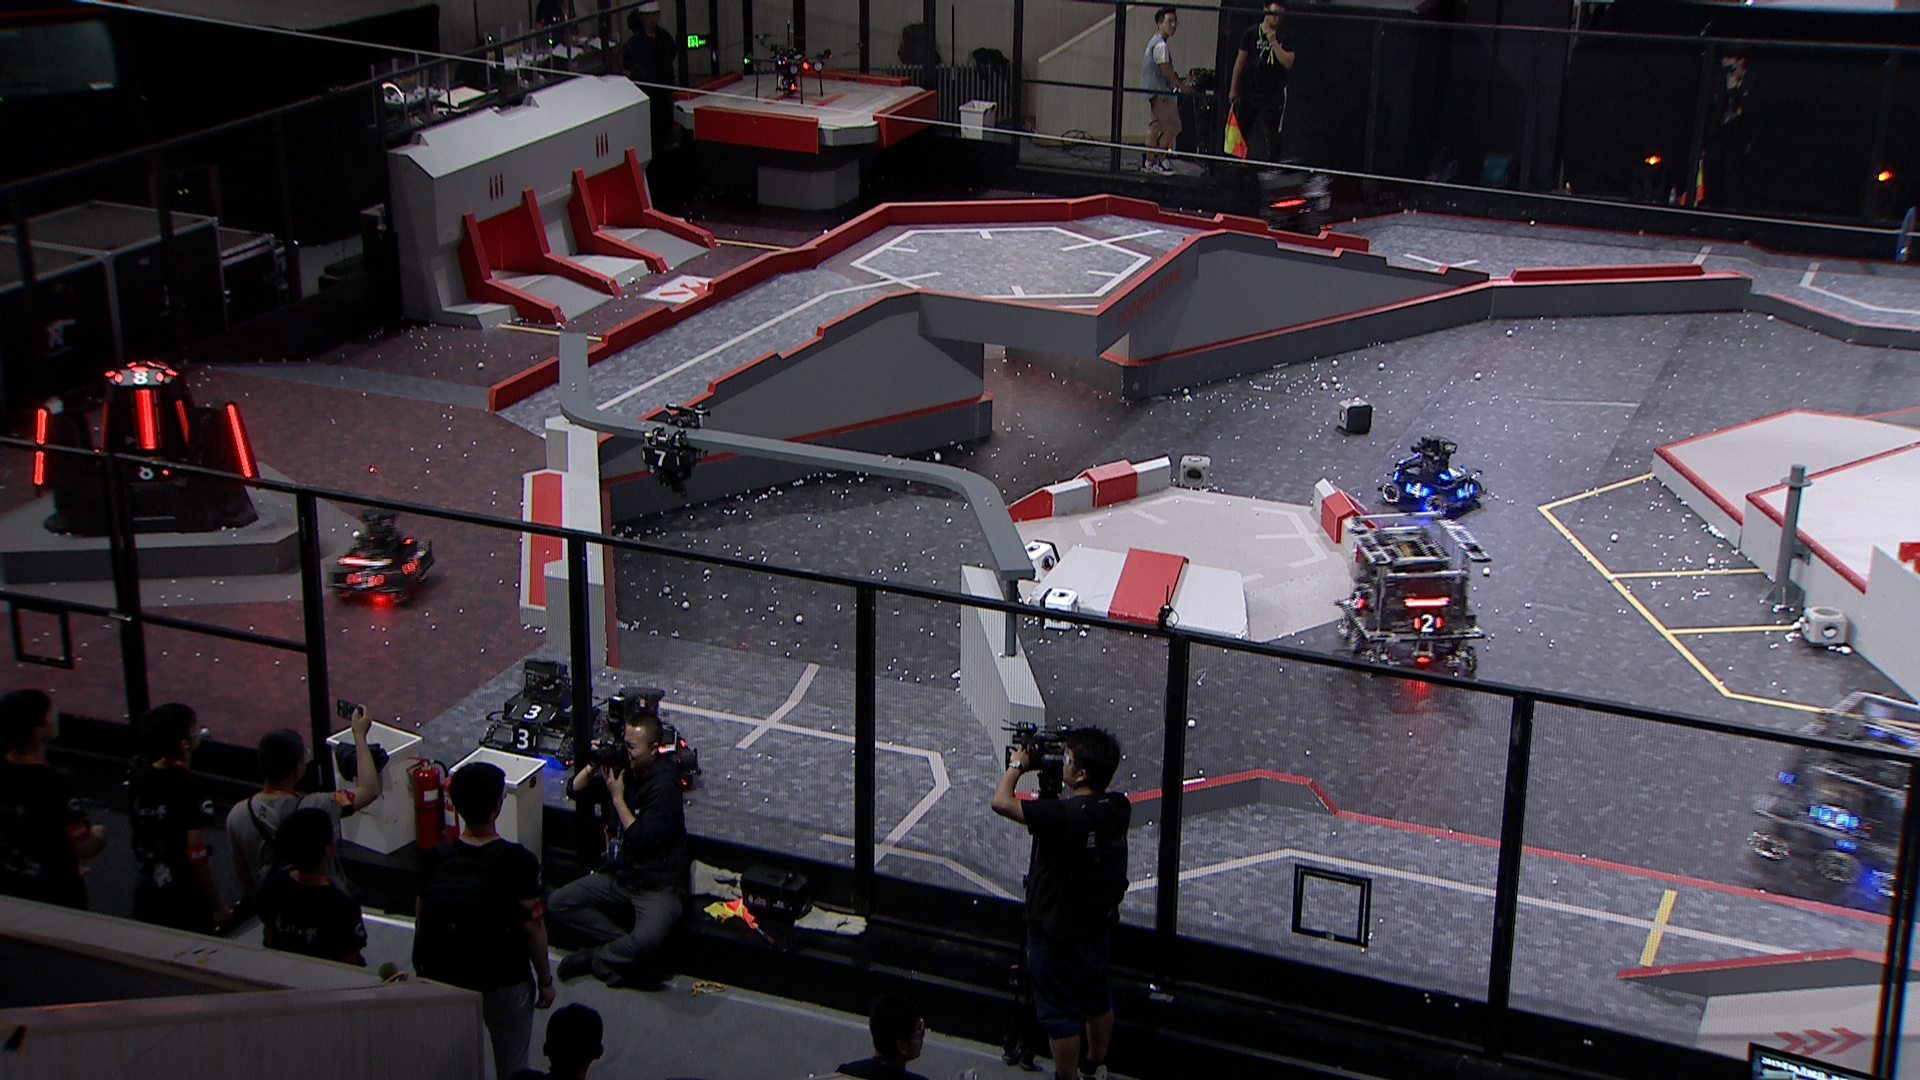armor: (225, 400, 252, 479), (135, 386, 164, 454), (1807, 803, 1863, 836), (30, 405, 50, 485), (509, 699, 560, 721), (638, 447, 684, 469), (345, 567, 385, 591), (116, 371, 166, 389), (125, 465, 171, 483), (173, 400, 191, 442), (1411, 612, 1443, 636), (506, 725, 538, 749), (398, 553, 425, 578), (98, 400, 109, 455), (1437, 463, 1468, 483), (1346, 585, 1367, 612), (1404, 481, 1429, 500), (1455, 480, 1476, 498)
base: (24, 356, 266, 534)
car: (1750, 690, 1920, 907), (1333, 510, 1493, 679), (568, 683, 708, 802), (473, 657, 609, 774), (323, 504, 436, 607), (1377, 433, 1486, 524), (1251, 157, 1338, 252)
watcher: (638, 400, 713, 500)
